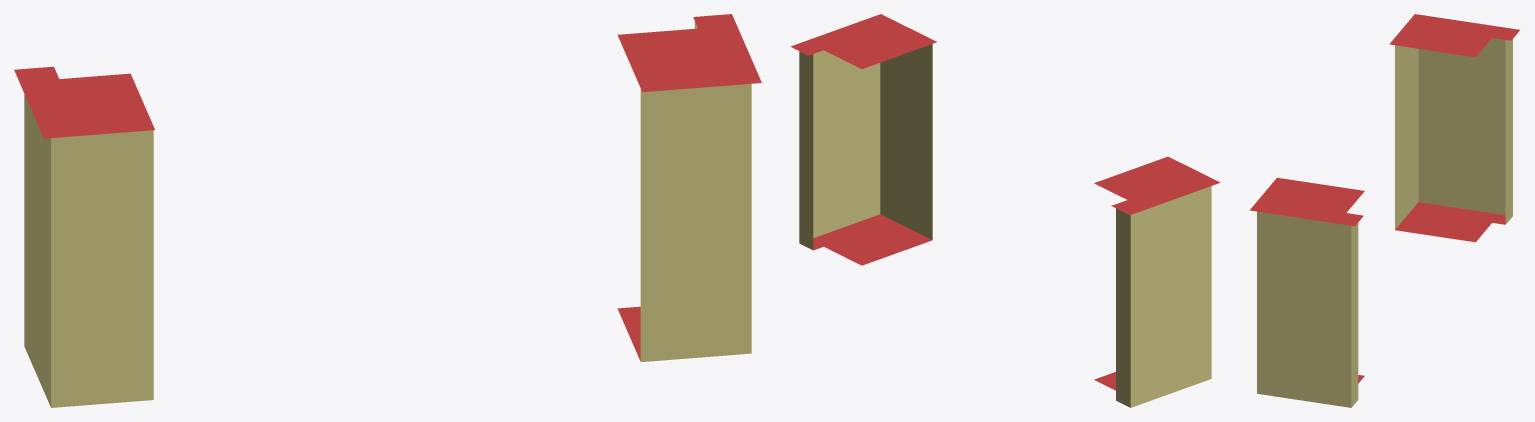
3 views of the same model, side by side, from view 1: azimuth 30°, elevation 25°; view 2: azimuth 150°, elevation 25°; view 3: azimuth 270°, elevation 25° (orthographic). The views are drawn at different scales.
Bounding box in the file's own units: 21.03 × 11.35 × 8.54.
